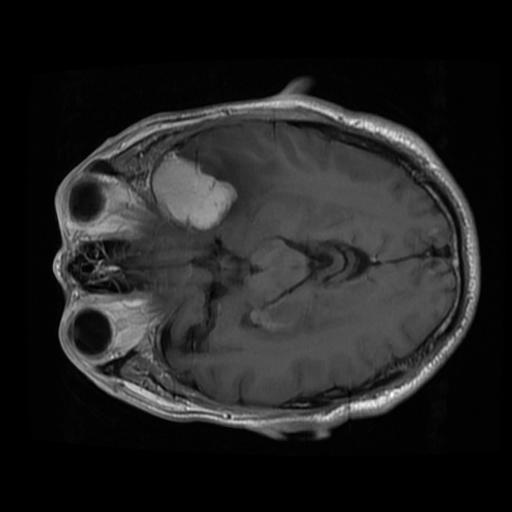meningioma: (148, 152, 238, 231)
